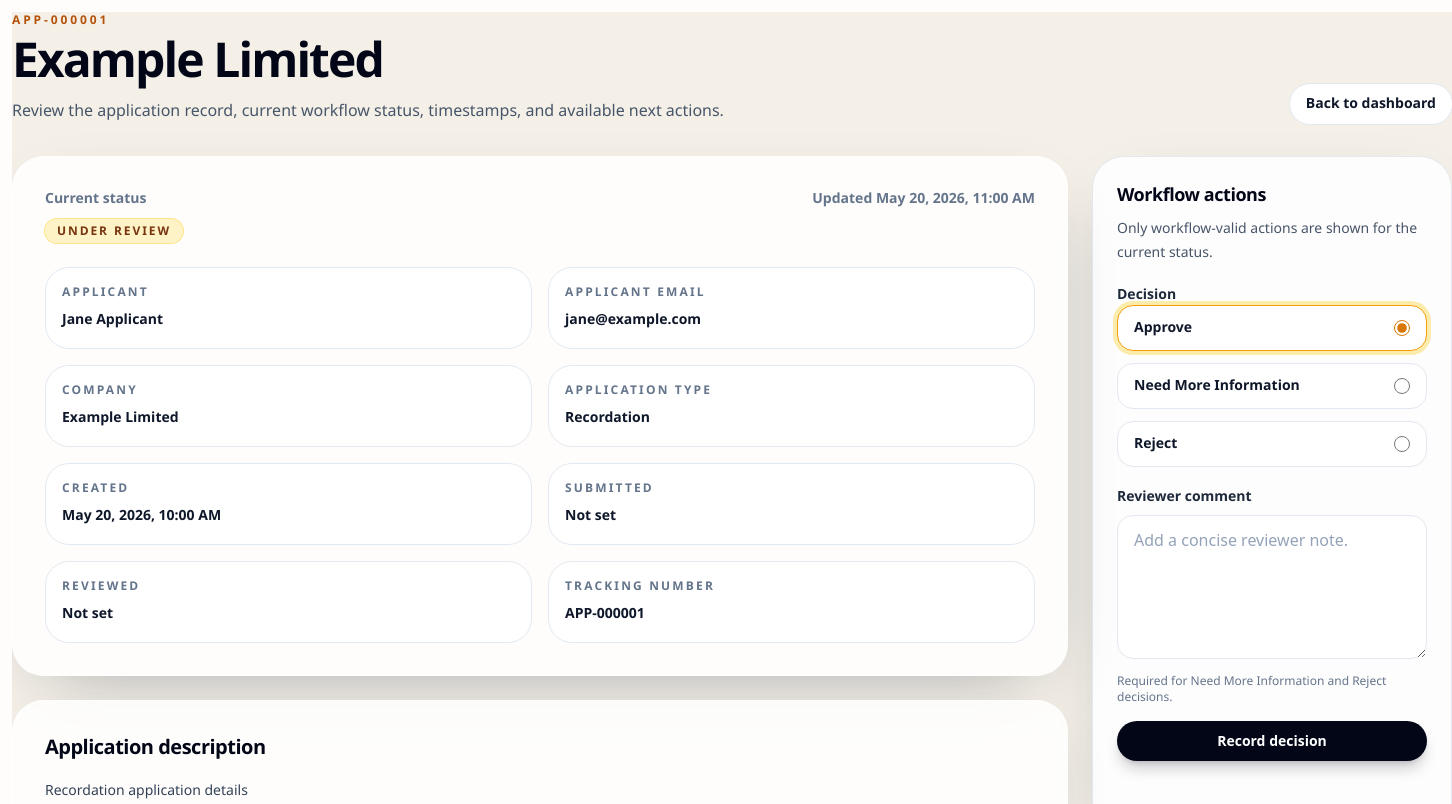
Test case: ApplicationDetailPage › records reviewer decisions
What coordinates should you click on to do the following:
click the button "Record decision"
I would click on:
 (1272, 741)
Its box is 1117,721 -> 1427,761.
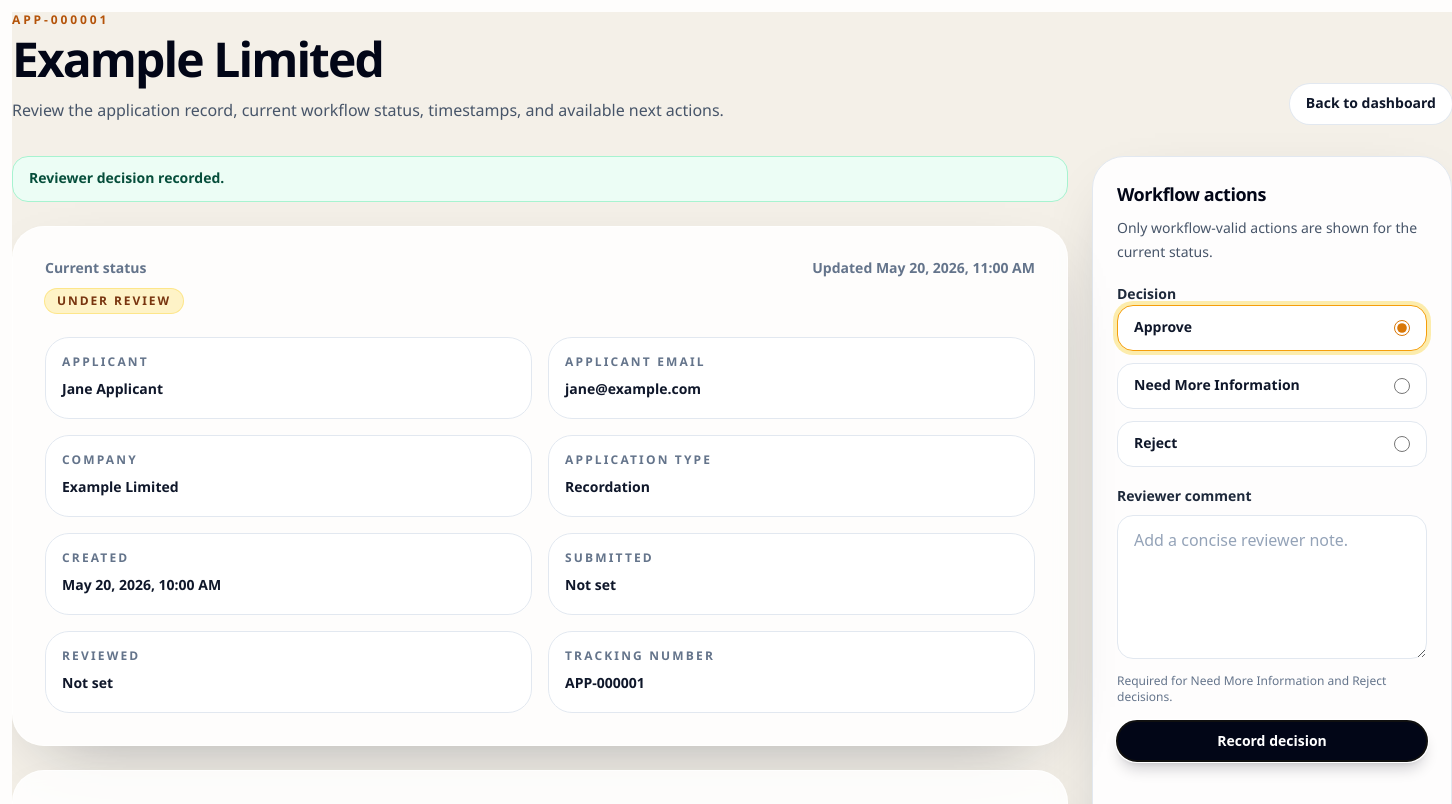
Expected: the text "Reviewer decision recorded." is shown, 12,156 -> 1068,202
